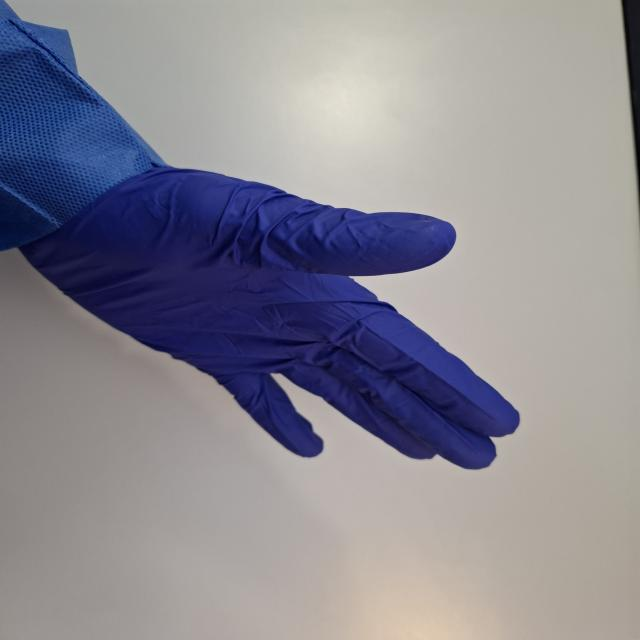glove_on: (10, 161, 523, 472)
